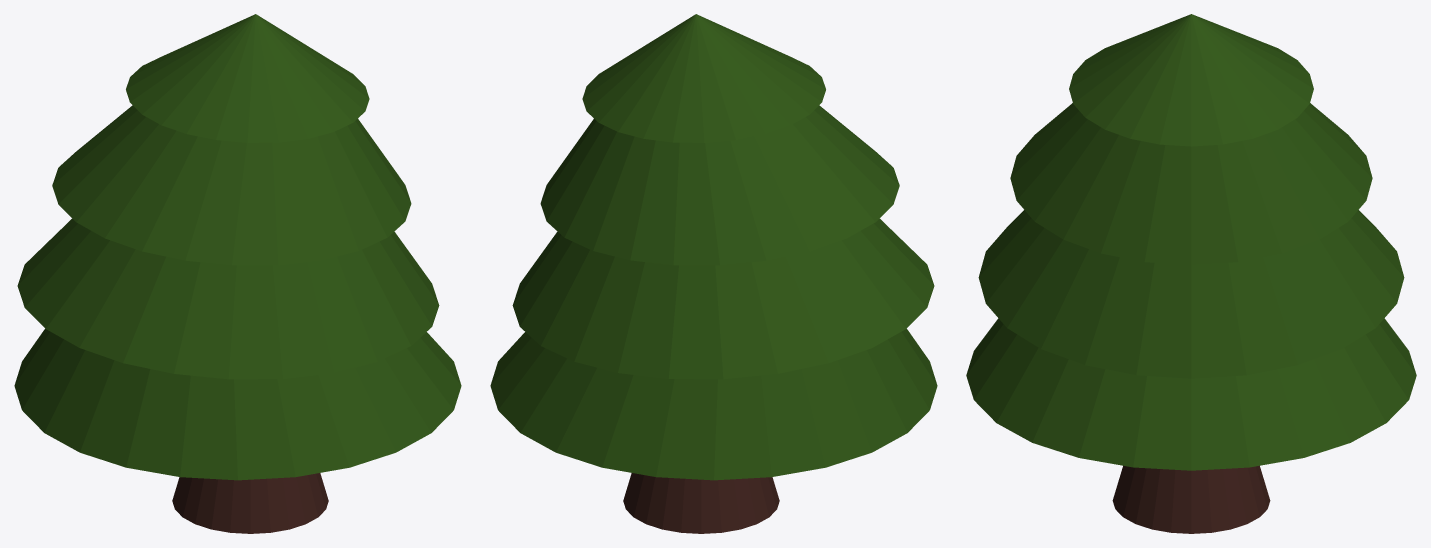
The model's file is tree2.obj.
3 renders of one model, left to right at view 1: azimuth 30°, elevation 25°; view 2: azimuth 150°, elevation 25°; view 3: azimuth 270°, elevation 25°, orthographic.
Visible parts, largest first — view 1: tree2_Cylinder.001; view 2: tree2_Cylinder.001; view 3: tree2_Cylinder.001.
Boxes of the visible parts, x1,y1,x2,y2 form: tree2_Cylinder.001: (14, 14, 461, 533); tree2_Cylinder.001: (490, 14, 937, 533); tree2_Cylinder.001: (966, 14, 1416, 533).
Size of the model in its own units: 1.07 by 1.28 by 1.07.
